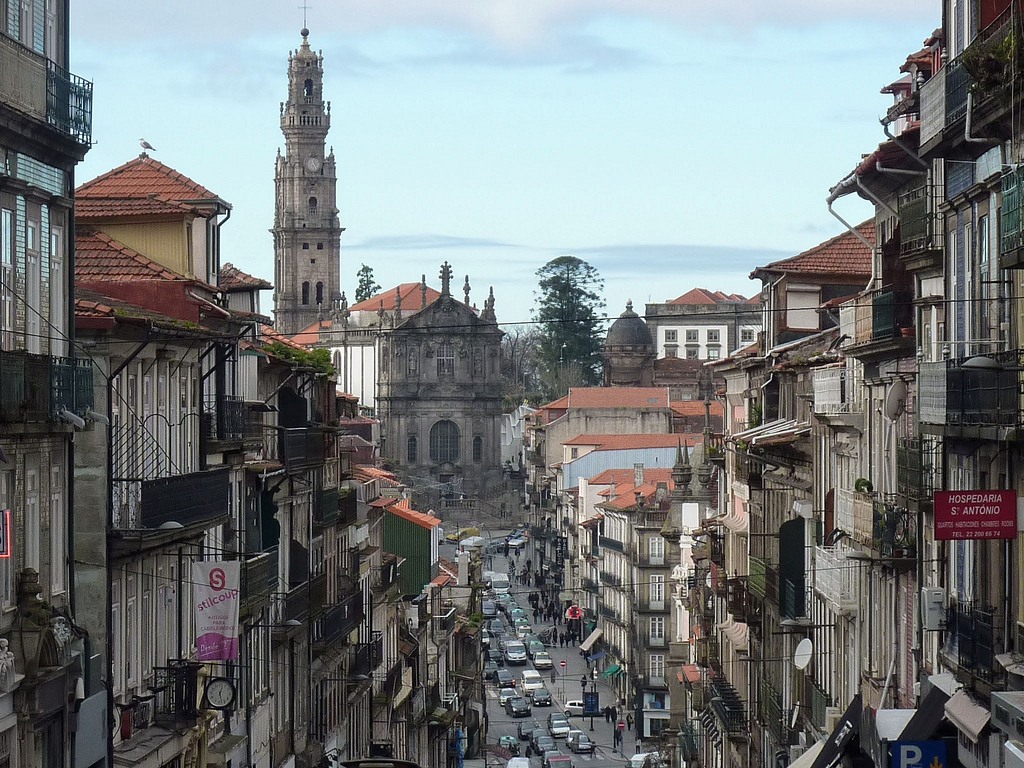clerigos: (264, 0, 350, 336)
